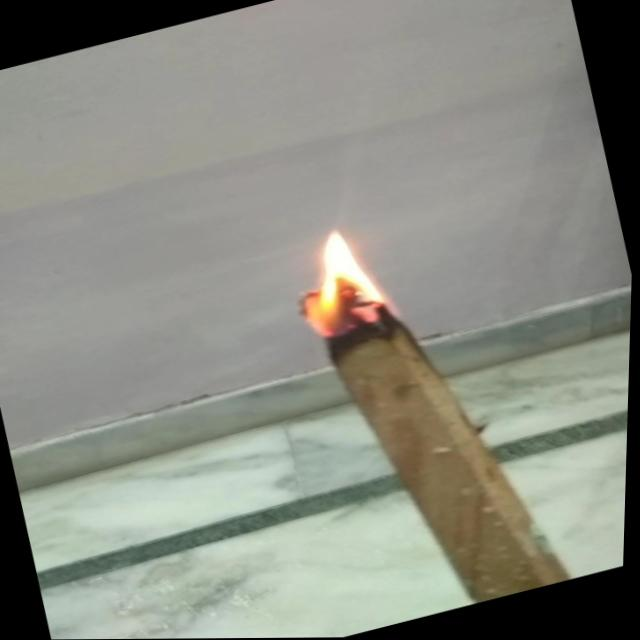fire: (269, 209, 418, 352)
